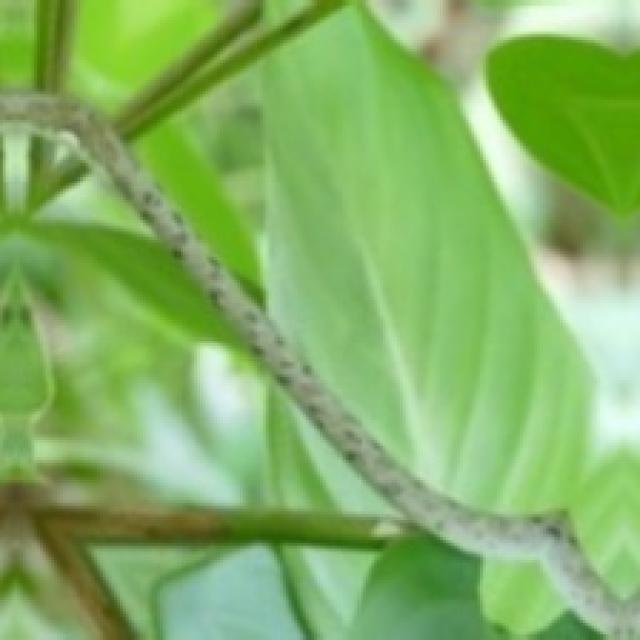philippine whip snake: (0, 91, 637, 637)
